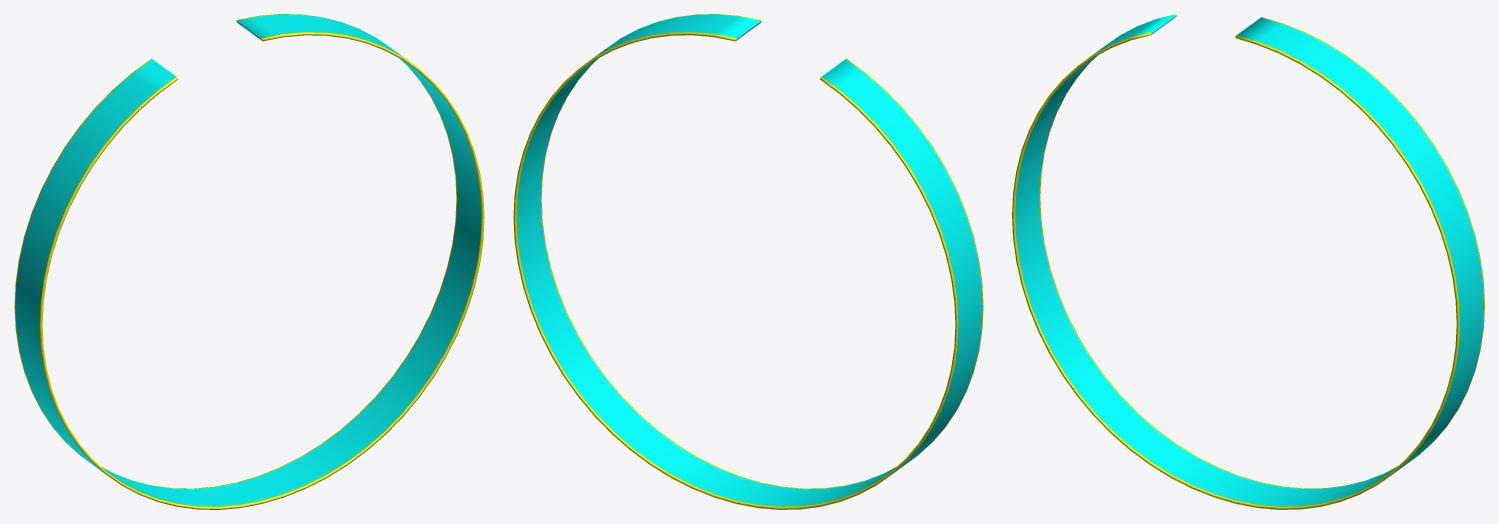
The model's file is TouchNote14.fbx.
3 views of the same model, side by side, from view 1: azimuth 30°, elevation 25°; view 2: azimuth 150°, elevation 25°; view 3: azimuth 330°, elevation 25° (orthographic).
Parts seen in each view (by area): view 1: TouchNote14; view 2: TouchNote14; view 3: TouchNote14.
Part boxes in pixels (x1,y1,x2,y2): TouchNote14: (14, 14, 484, 509); TouchNote14: (513, 14, 983, 509); TouchNote14: (1012, 14, 1484, 509).
Size of the model in its own units: 198 by 20 by 198.
